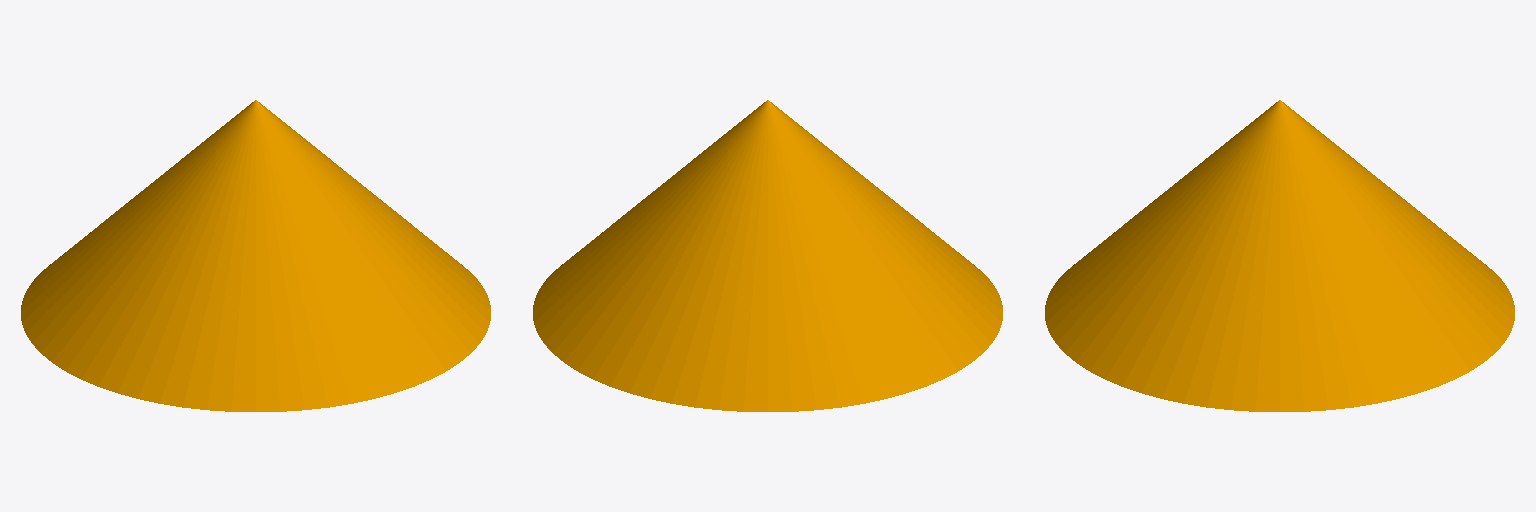
URDF robot description (simple_cone):
<robot name="simple_cone">
  <link name="my_cone">
    <inertial>
      <origin xyz="0 0 0" />
      <mass value="0.1" />
      <inertia  ixx="1.0" ixy="0.0"  ixz="0.0"  iyy="1.0"  iyz="0.0"  izz="1.0" />
    </inertial>
    <visual>
       <origin xyz="0 0 0" />
      <geometry>
        <mesh filename="package://pcl_node/urdfs/cone.STL" scale="0.2 0.2 0.2"/>
      </geometry>
    </visual>
    <collision>
      <origin xyz="0 0 0" />
      <geometry>
        <mesh filename="package://pcl_node/urdfs/cone.STL" scale="0.2 0.2 0.2"/>
      </geometry>
    </collision>
  </link>
  <gazebo reference="my_cone">
    <material>Gazebo/Yellow</material>
  </gazebo>
</robot>

--- Facts derived from the render (not from the file) ---
3 views of the same robot in one strip: view 1: azimuth 30°, elevation 25°; view 2: azimuth 150°, elevation 25°; view 3: azimuth 270°, elevation 25° (orthographic).
Robot: simple_cone — 1 links, 0 joints (none); root link my_cone; default pose: all joints at 0.
Visible links, largest first — view 1: my_cone; view 2: my_cone; view 3: my_cone.
Boxes of the visible links, left/top/right/bottom form: my_cone: left=21, top=100, right=490, bottom=411; my_cone: left=533, top=100, right=1002, bottom=411; my_cone: left=1045, top=100, right=1514, bottom=411.
Bounding box of the posed robot: 0.4 × 0.4 × 0.2 m (x, y, z).
Meshes: 1 distinct files referenced, 1 mesh visuals loaded (1 binary STL).